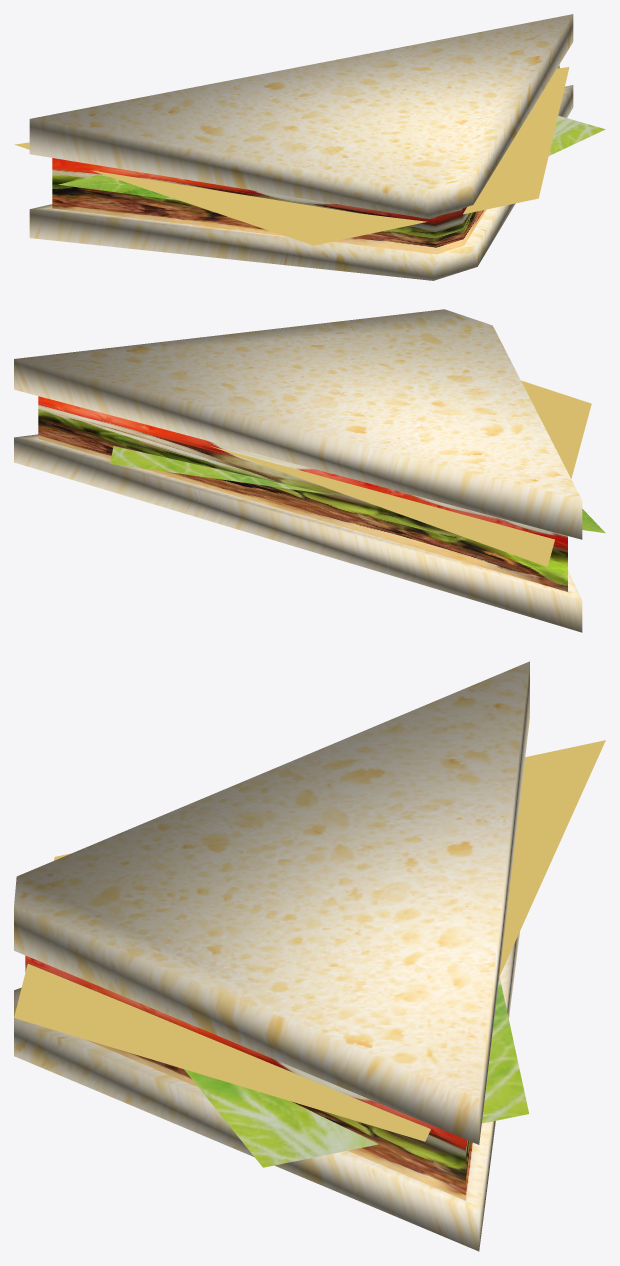
The model's file is sandwitch.fbx.
3 views of the same model, one above another, from view 1: azimuth 30°, elevation 25°; view 2: azimuth 150°, elevation 25°; view 3: azimuth 270°, elevation 25° (orthographic). The views are drawn at different scales.
Visible parts, largest first — view 1: Cube; view 2: Cube; view 3: Cube.
Boxes of the visible parts, box(x1,y1,x2,y2) form: Cube: box(14, 14, 605, 280); Cube: box(14, 309, 605, 632); Cube: box(14, 661, 605, 1251).
Bounding box in the file's own units: 360 × 77.52 × 215.
